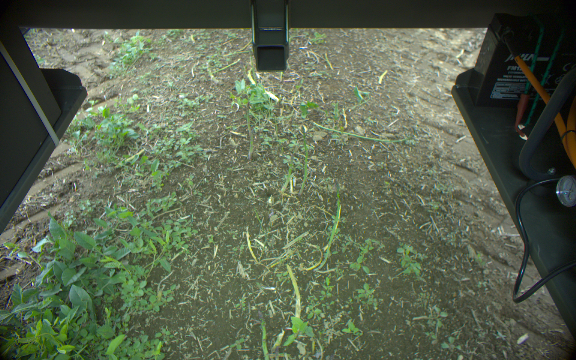aspa: (309, 117, 413, 146), (325, 178, 344, 264), (283, 263, 303, 333), (253, 310, 272, 360), (297, 124, 310, 194), (278, 146, 297, 193), (245, 99, 255, 157)
